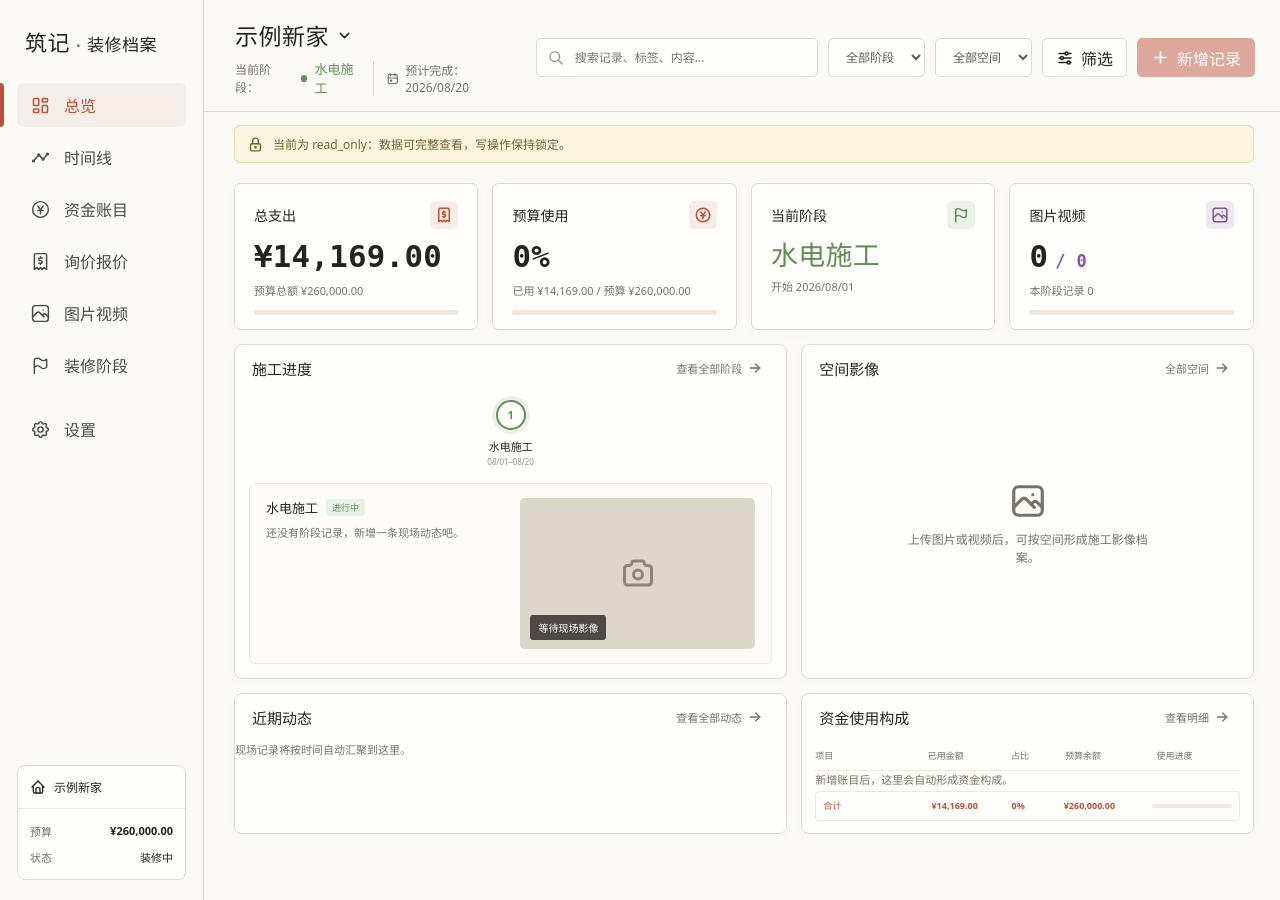
it: Renovation Hub app › shows category, transaction type, purpose and merchant separately
Check: the text "总支出" is shown, box [254,205,296,225]
Click the button "资金账目": (102, 209) [17,187,186,231]
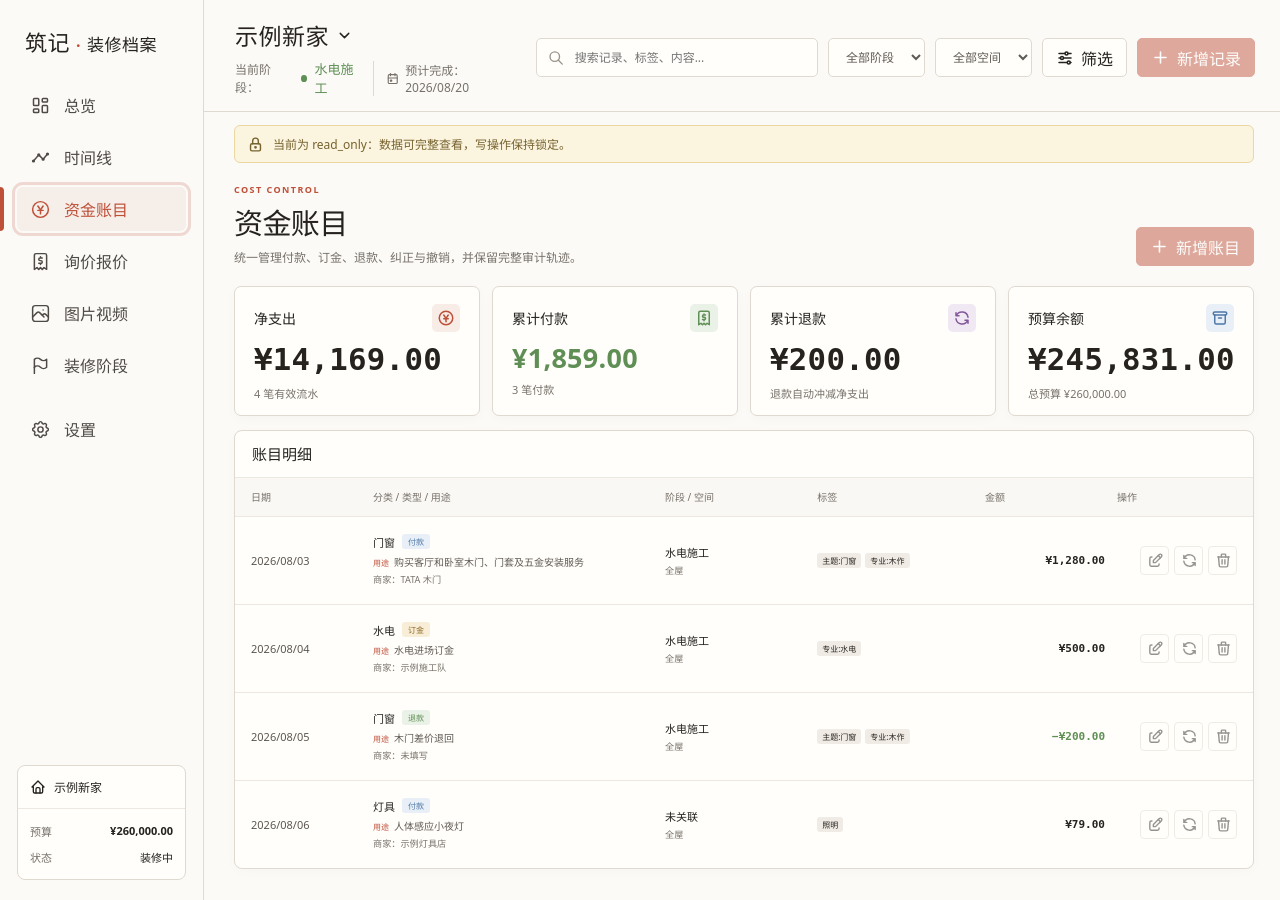
Check: the text "门窗" is shown 2 times, box [373,534,395,550]; [373,710,395,726]
Check: the text "水电" is shown, box [373,622,395,638]
Check: the text "灯具" is shown, box [373,798,395,814]
